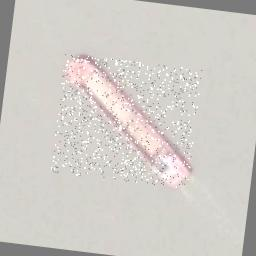boat: (50, 52, 202, 188)
